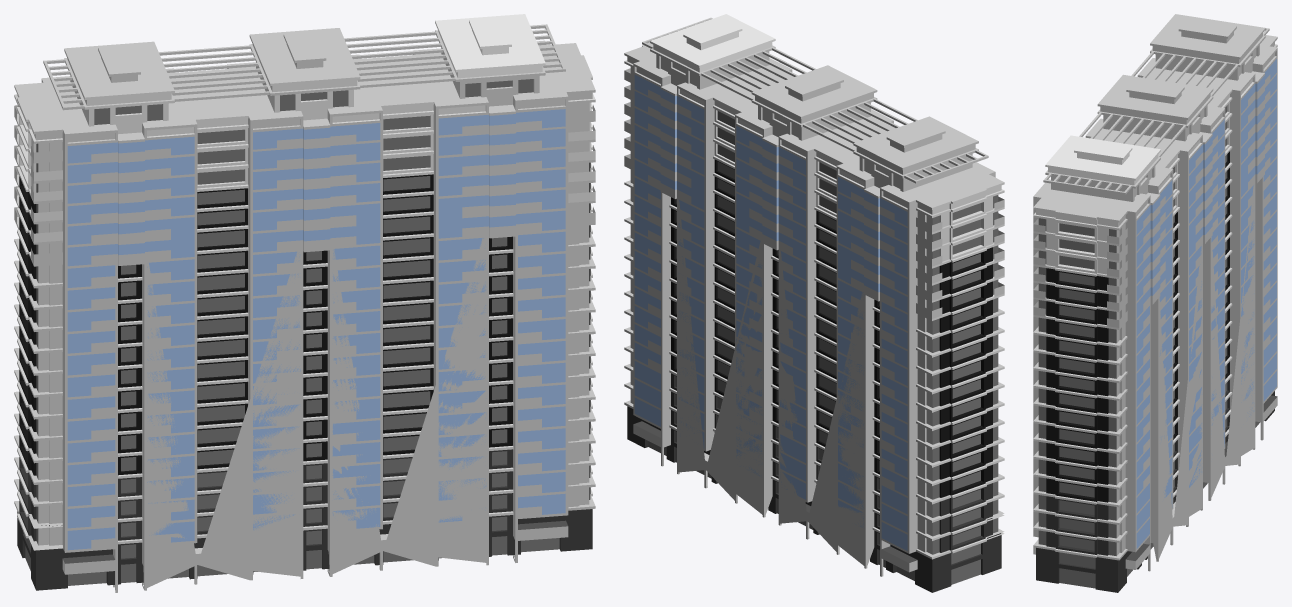
File: Skyscraper1.fbx
3 renders of one model, left to right at view 1: azimuth 30°, elevation 25°; view 2: azimuth 150°, elevation 25°; view 3: azimuth 270°, elevation 25°, orthographic. The views are drawn at different scales.
Parts seen in each view (by area): view 1: Mesh1 Model; view 2: Mesh1 Model; view 3: Mesh1 Model.
Boxes of the visible parts, x1,y1,x2,y2 form: Mesh1 Model: [14, 14, 595, 592]; Mesh1 Model: [624, 14, 1004, 592]; Mesh1 Model: [1033, 14, 1277, 592].
Bounding box in the file's own units: 778 × 753 × 408.
